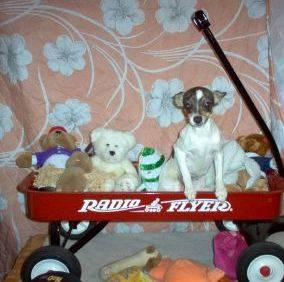dog: (173, 87, 226, 200)
